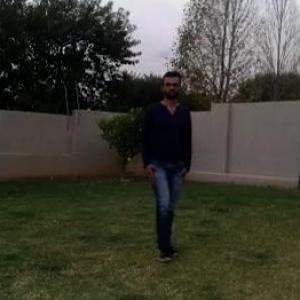follow: (144, 76, 187, 242)
